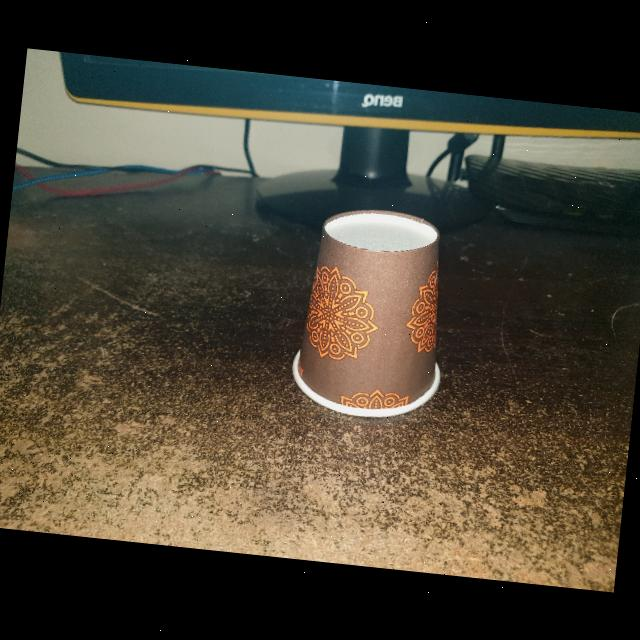trash: (281, 199, 461, 424)
